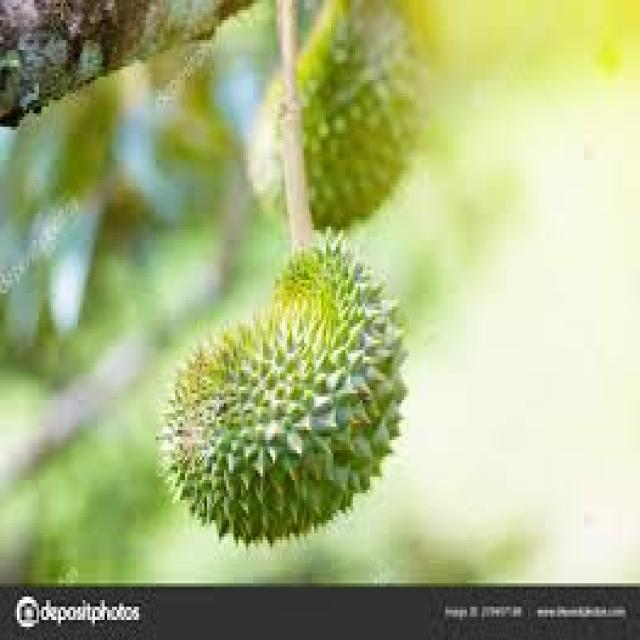immature: (152, 224, 408, 546)
